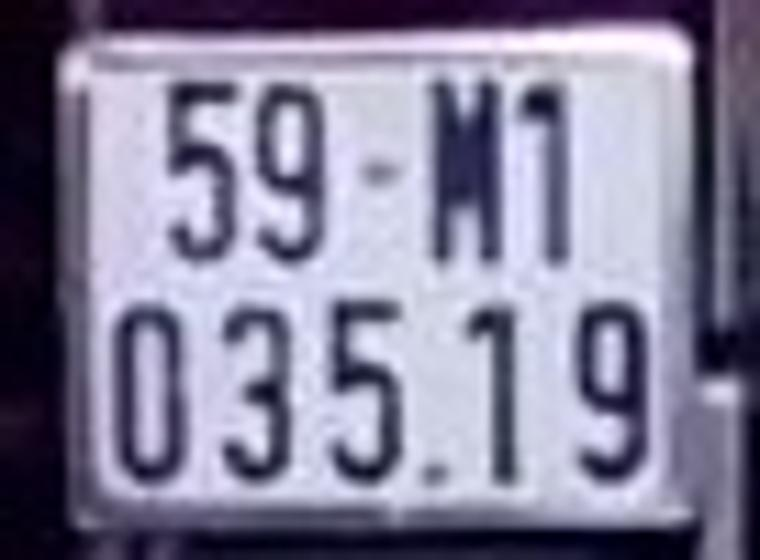-: (355, 151, 401, 189)
.: (421, 463, 446, 490)
0: (111, 309, 186, 481)
1: (460, 299, 525, 488), (523, 79, 575, 273)
3: (227, 314, 289, 488)
5: (165, 80, 237, 263), (331, 309, 406, 481)
9: (571, 295, 654, 495), (250, 80, 325, 261)
M: (428, 79, 501, 265)
